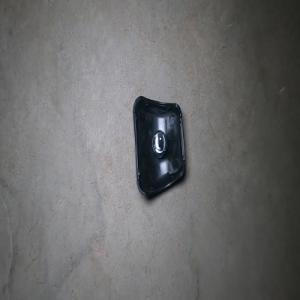LuggagePart: (132, 94, 186, 199)
